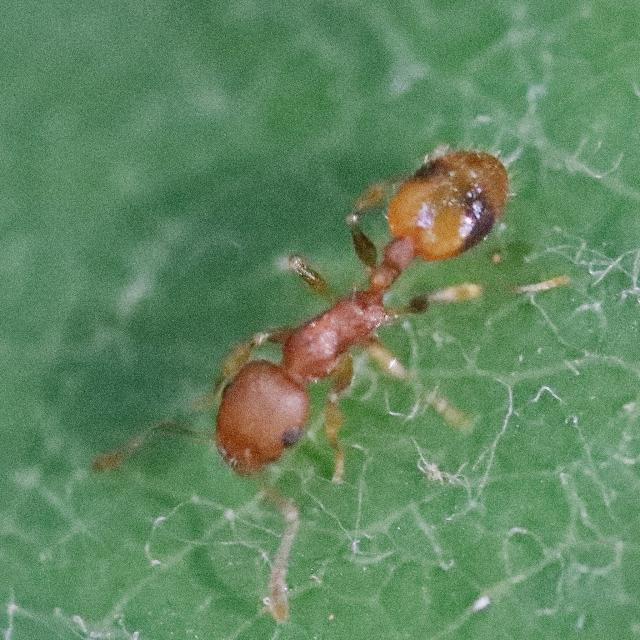Temnothorax: (169, 109, 547, 503)
